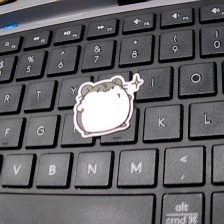mouse: (72, 72, 146, 138)
